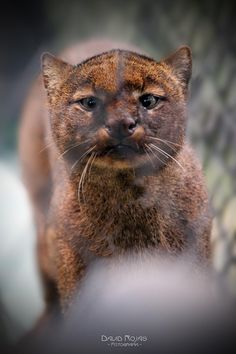Jaguarundi: (22, 43, 212, 257)
